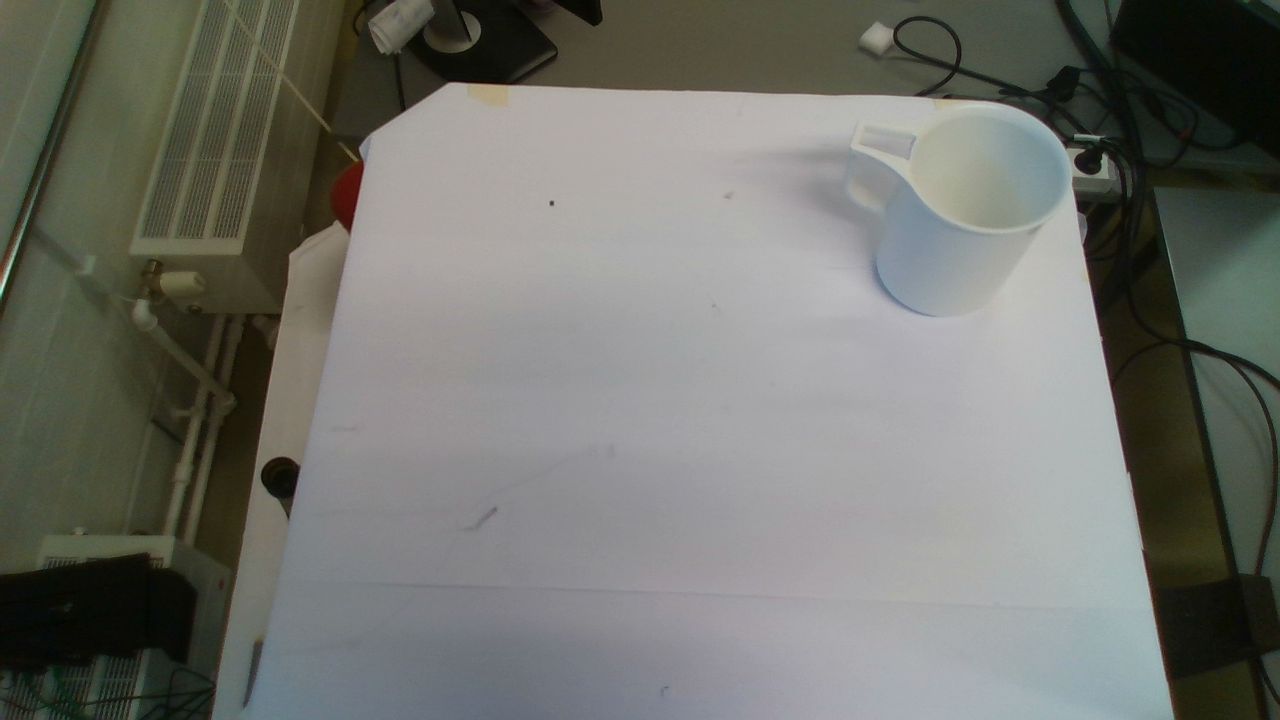cup: (840, 105, 1068, 321)
